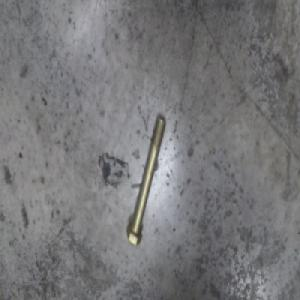Bolt: (126, 105, 165, 244)
